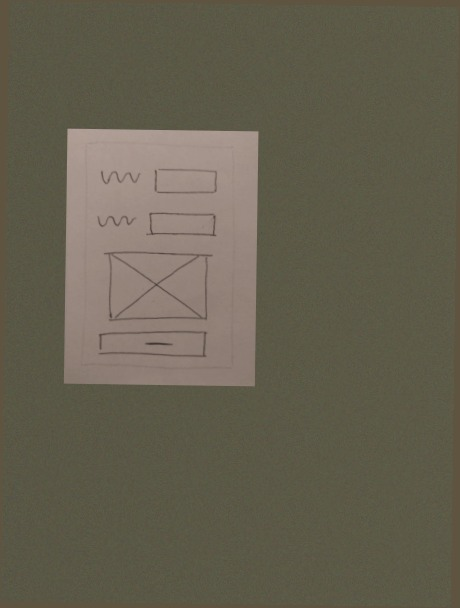button: (95, 328, 211, 360)
image: (99, 247, 216, 325)
text: (99, 165, 147, 193), (93, 208, 140, 232)
text_input: (151, 164, 223, 200), (144, 209, 222, 241)
